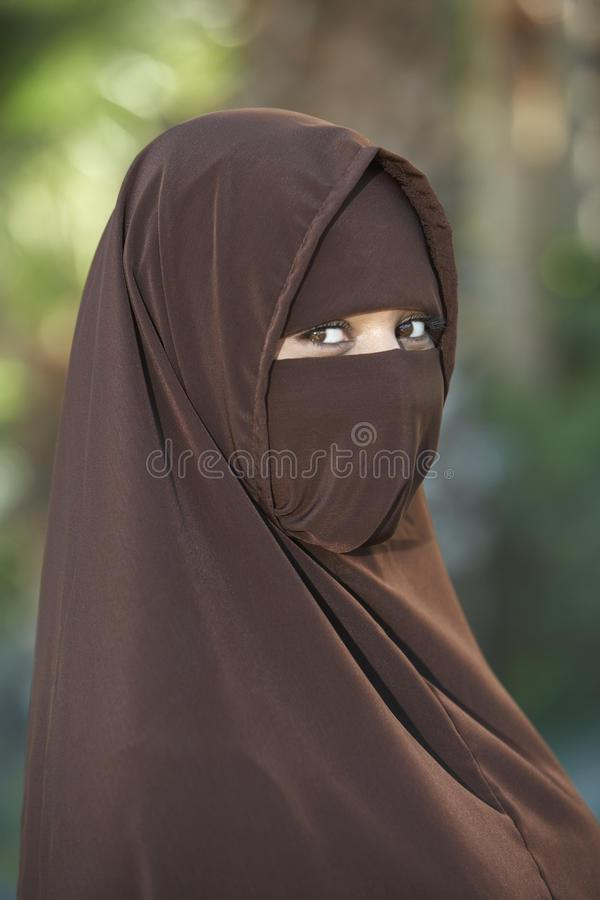No Mask: (173, 170, 524, 580)
